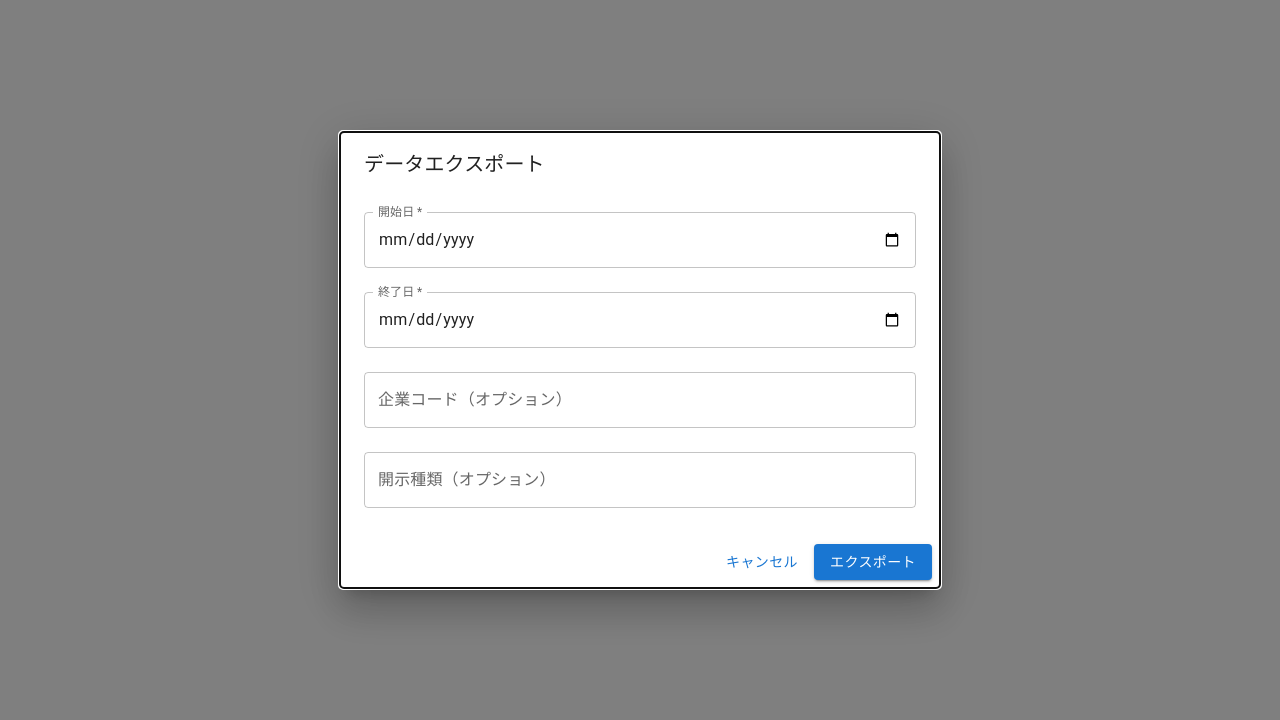
Test case: ExportDialog › 必須フィールドが未入力の場合にエラーを表示する
Click the button "エクスポート".
click(873, 562)  # box [814,544,932,580]
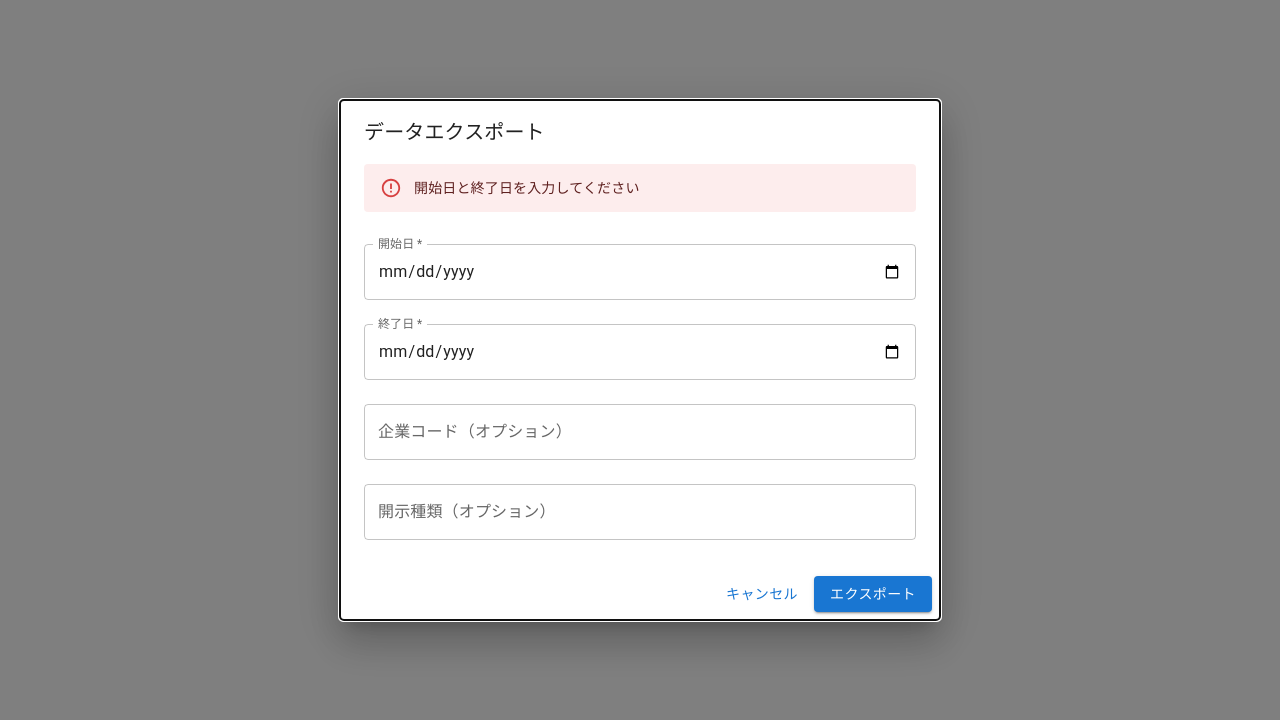
Now the text "開始日と終了日を入力してください" is shown, box [414,180,640,196]
